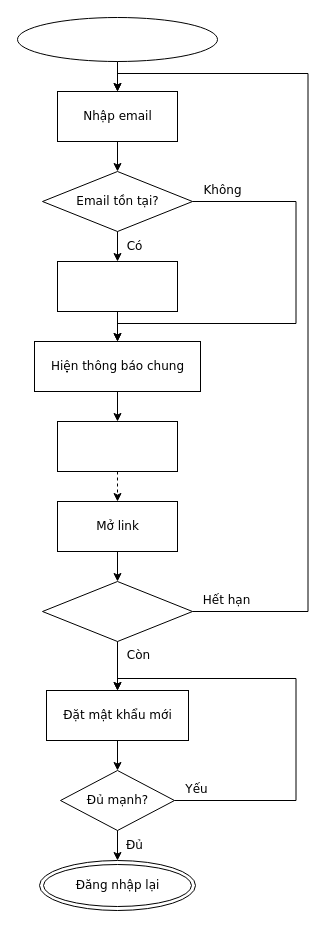
Image size: 334x928. Some labels were removed from this diagram. The centre of each missing label's shape, as x and y in pixels:
"Bấm quên mật khẩu" goes at point 117,39.
"Chờ email" goes at point 117,446.
"Gửi link đặt lại" goes at point 117,286.
"Link còn hạn?" goes at point 117,611.
